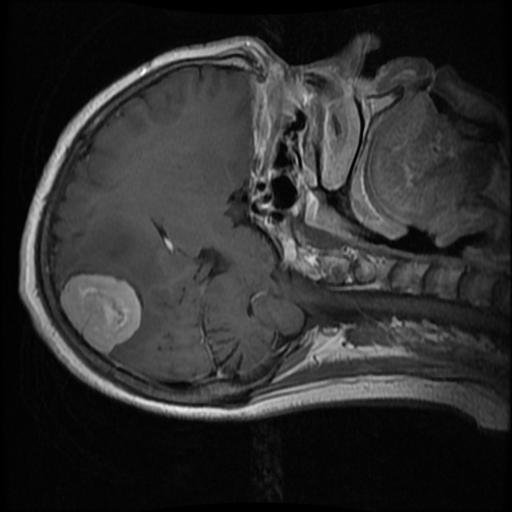meningioma: (60, 275, 142, 353)
